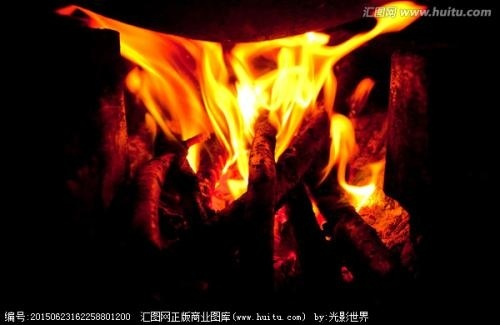fire: (118, 30, 356, 188), (321, 114, 387, 210)
